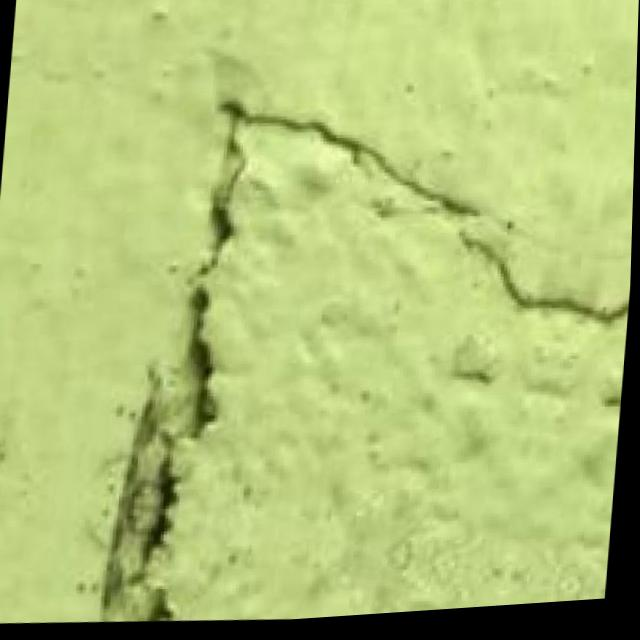Crack: (106, 73, 636, 634)
